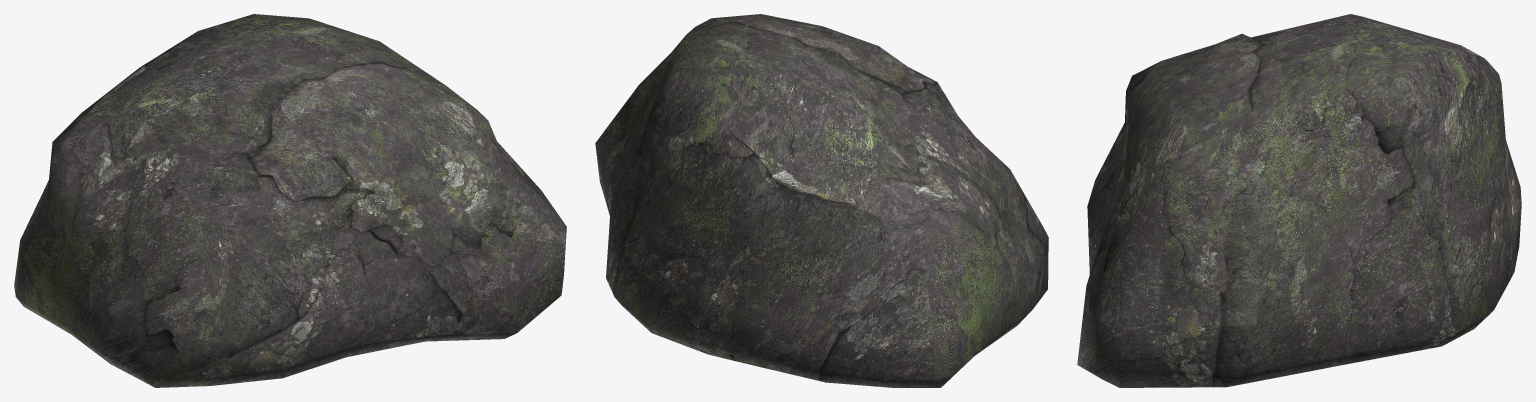
File: RockSmallBAlt.obj
The picture shows the model from 3 angles, left to right: view 1: azimuth 30°, elevation 25°; view 2: azimuth 150°, elevation 25°; view 3: azimuth 270°, elevation 25°; orthographic projection. The views are drawn at different scales.
Visible parts, largest first — view 1: RockSmallBAlt; view 2: RockSmallBAlt; view 3: RockSmallBAlt.
Boxes of the visible parts, x1,y1,x2,y2 form: RockSmallBAlt: [14, 14, 566, 387]; RockSmallBAlt: [595, 14, 1048, 387]; RockSmallBAlt: [1077, 14, 1521, 387].
Bounding box in the file's own units: 109 × 61.55 × 87.1.
Materials: 1 (1 with a texture image).
